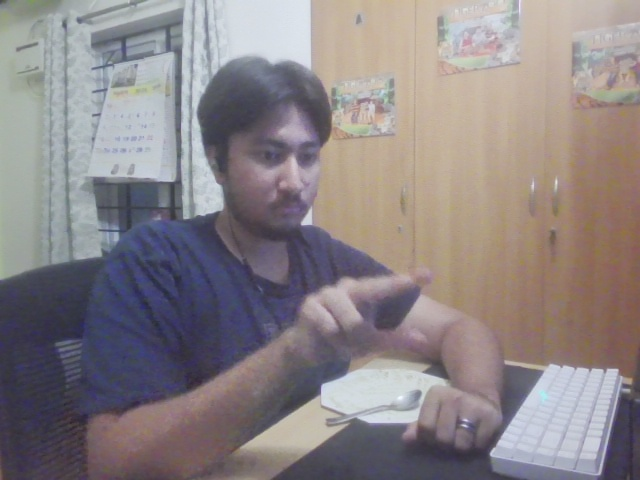no: (292, 264, 446, 372)
